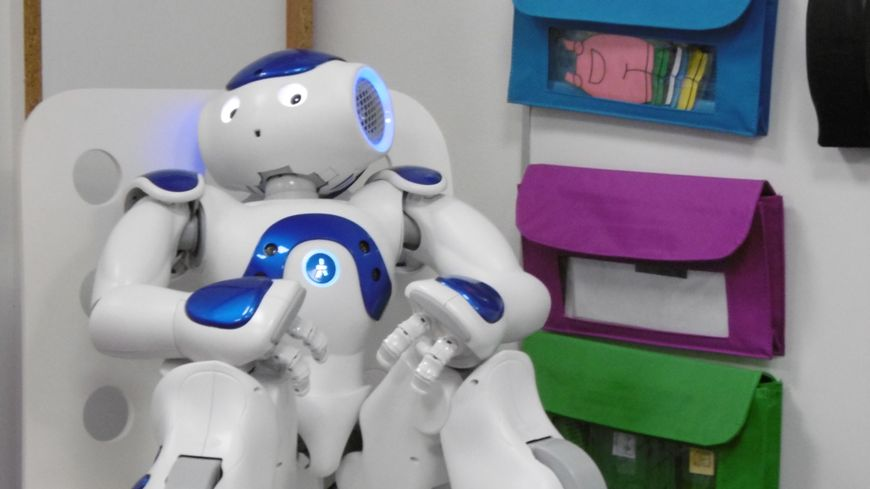nao: (70, 49, 558, 489)
